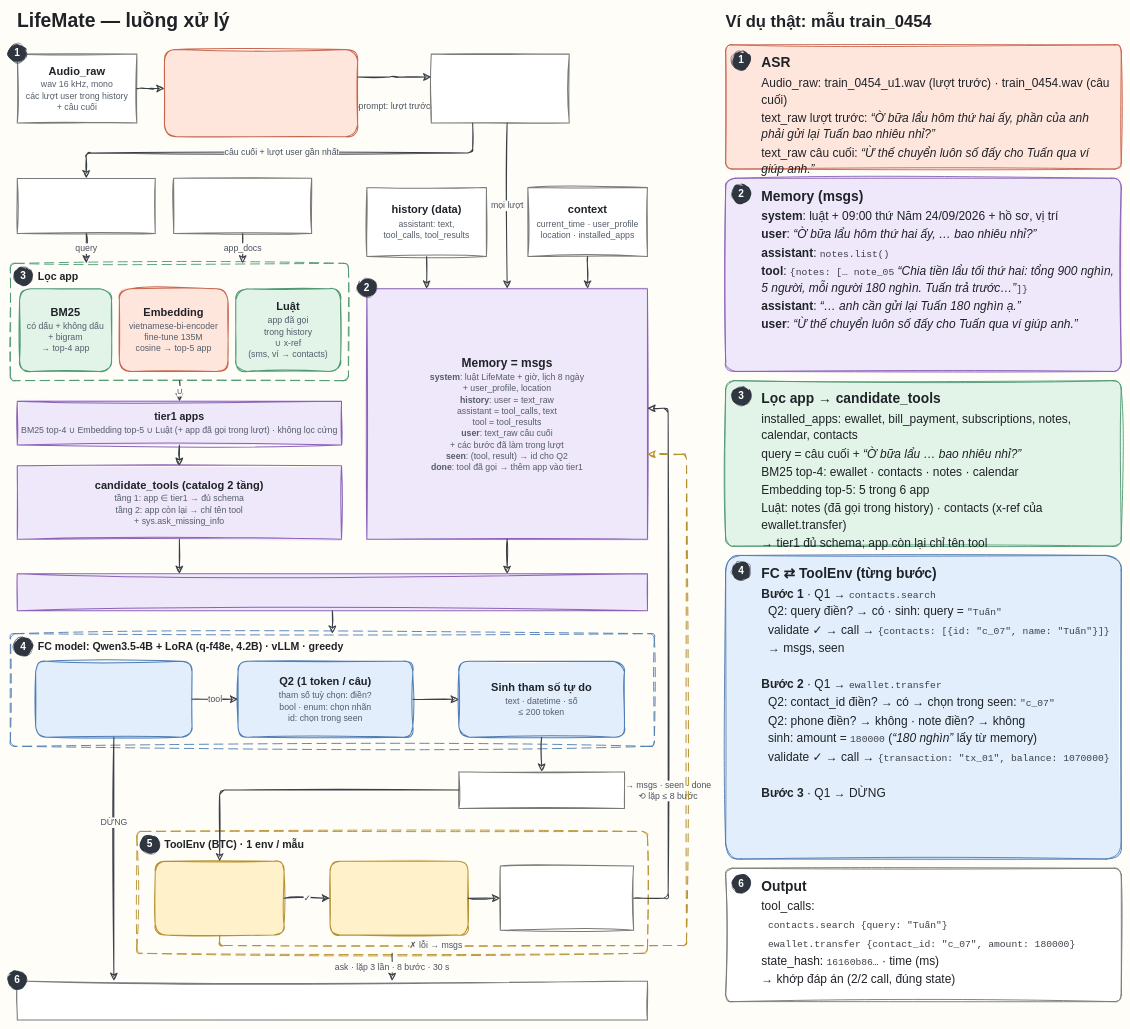
Image size: 1130x1029. Some labels were removed from this diagram. The centre of each missing label's shape, as x and y in pixels:
"ASR model PhoWhisper-large 1.54B fine-tune: pw-tmp-e46f beam 5 · fp16" belongs at pixel 261 93.
"call chạy tool rỗng → gọi lại 1 lần, bỏ tham số chữ tuỳ chọn" belongs at pixel 398 898.
"Output: tool_calls + state_hash + time" belongs at pixel 332 1000.
"private_tools <split>_tools_catalog (có app chưa thấy)" belongs at pixel 242 206.
"Prompt = chat template Qwen3.5 (candidate_tools + msgs) · ≤ 16 384 token" belongs at pixel 332 592.
"Q1 (1 token) chọn: một tool · sys.ask_missing_info · DỪNG" belongs at pixel 113 699.
"query text_raw câu cuối + lượt user gần nhất" belongs at pixel 86 206.
"text_raw asr = {uid: câu} từng lượt user, theo thứ tự" belongs at pixel 500 88.
"tool_call {name, arguments}" belongs at pixel 541 790.
"tool_result kết quả JSON" belongs at pixel 567 898.
"validate kiểm schema" belongs at pixel 219 898.
